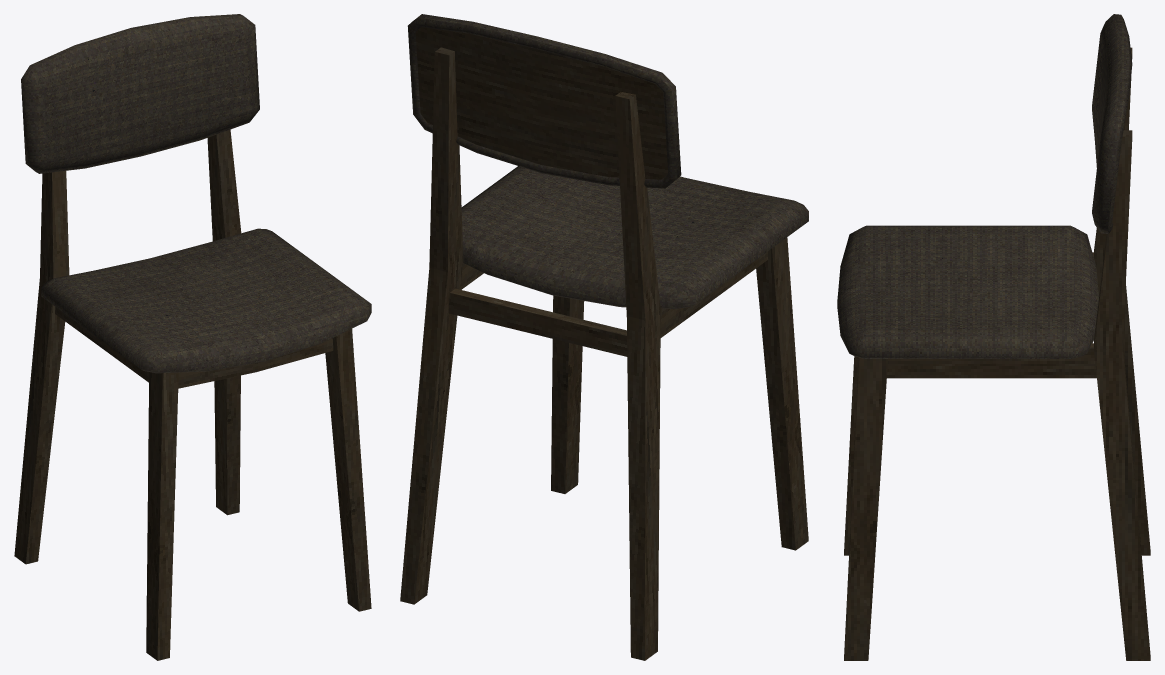
Rendered from chair_mp_4_3.glb.
3 renders of one model, left to right at view 1: azimuth 30°, elevation 25°; view 2: azimuth 150°, elevation 25°; view 3: azimuth 270°, elevation 25°, orthographic. The views are drawn at different scales.
Parts seen in each view (by area): view 1: chair_mp_4_3; view 2: chair_mp_4_3; view 3: chair_mp_4_3.
Boxes of the visible parts, x1=… form: chair_mp_4_3: x1=14, y1=14, x2=371, y2=660; chair_mp_4_3: x1=400, y1=14, x2=808, y2=660; chair_mp_4_3: x1=837, y1=14, x2=1150, y2=660.
Bounding box in the file's own units: 0.4763 × 1.01 × 0.5226.
Materials: 2 (2 with a texture image).
